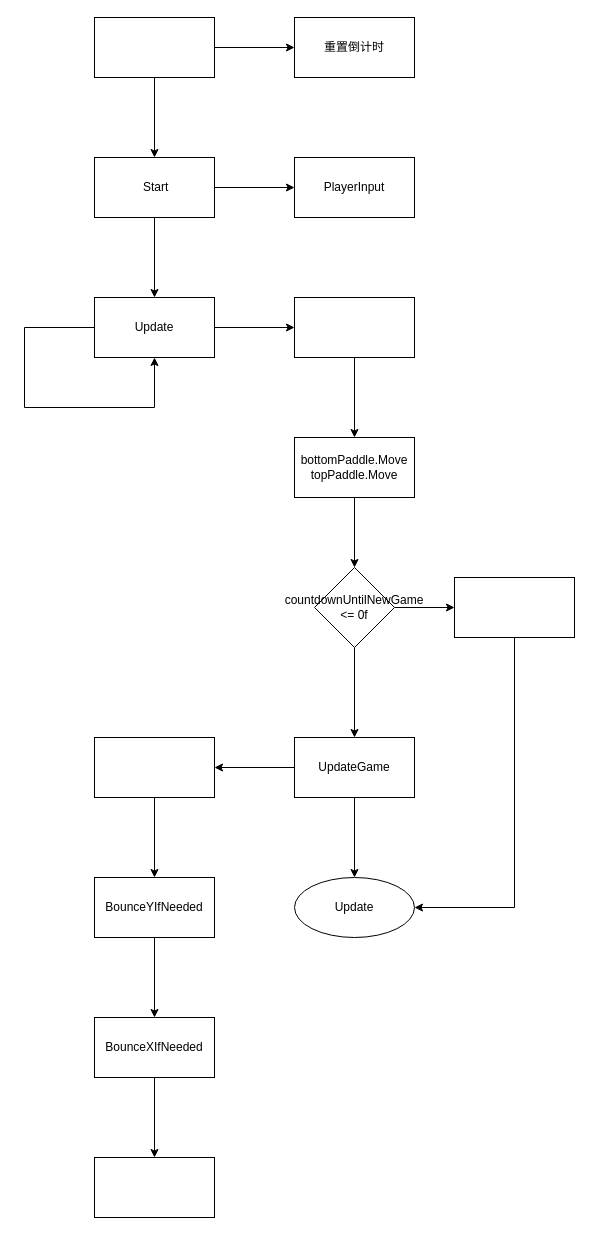
This 592x1235 diagram has some shape labels left out. The centre of each missing label's shape, as x and y in pixels:
"Awake" goes at (x=154, y=47).
"ball.Move" goes at (x=154, y=767).
"ball.UpdateVisualization" goes at (x=154, y=1187).
"Paddle.SetInputVector" goes at (x=354, y=327).
"UpdateCountdown" goes at (x=514, y=607).
